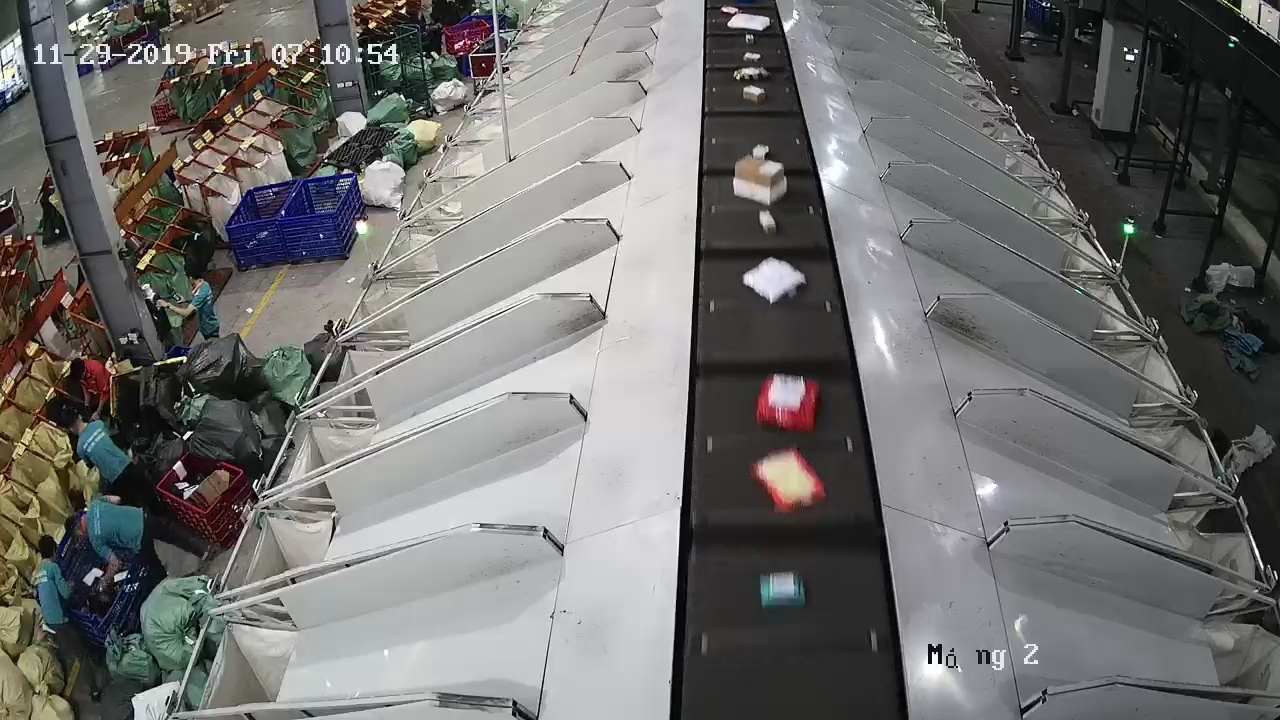parcel: (751, 445, 828, 517), (754, 371, 821, 434), (742, 256, 807, 305), (759, 570, 806, 609), (758, 210, 777, 236)
